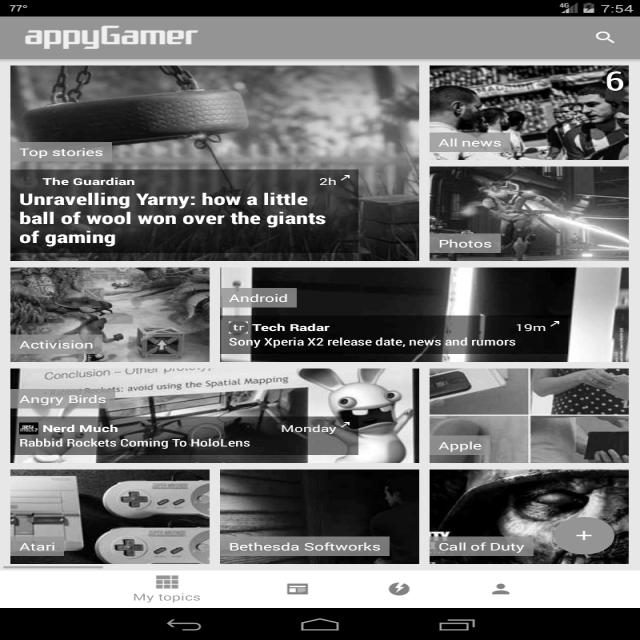ImageButton: (130, 565, 208, 606), (550, 515, 618, 556), (272, 582, 343, 604), (583, 24, 618, 47)
ImageView: (13, 57, 429, 159), (419, 366, 633, 458), (9, 470, 217, 554), (434, 165, 623, 257), (439, 65, 627, 153), (17, 265, 194, 335)
RadioButton: (463, 572, 529, 606), (376, 564, 418, 600)
TextView: (29, 173, 346, 255), (228, 317, 529, 353), (27, 420, 270, 452), (17, 23, 215, 51), (222, 530, 390, 561), (222, 290, 297, 308)
